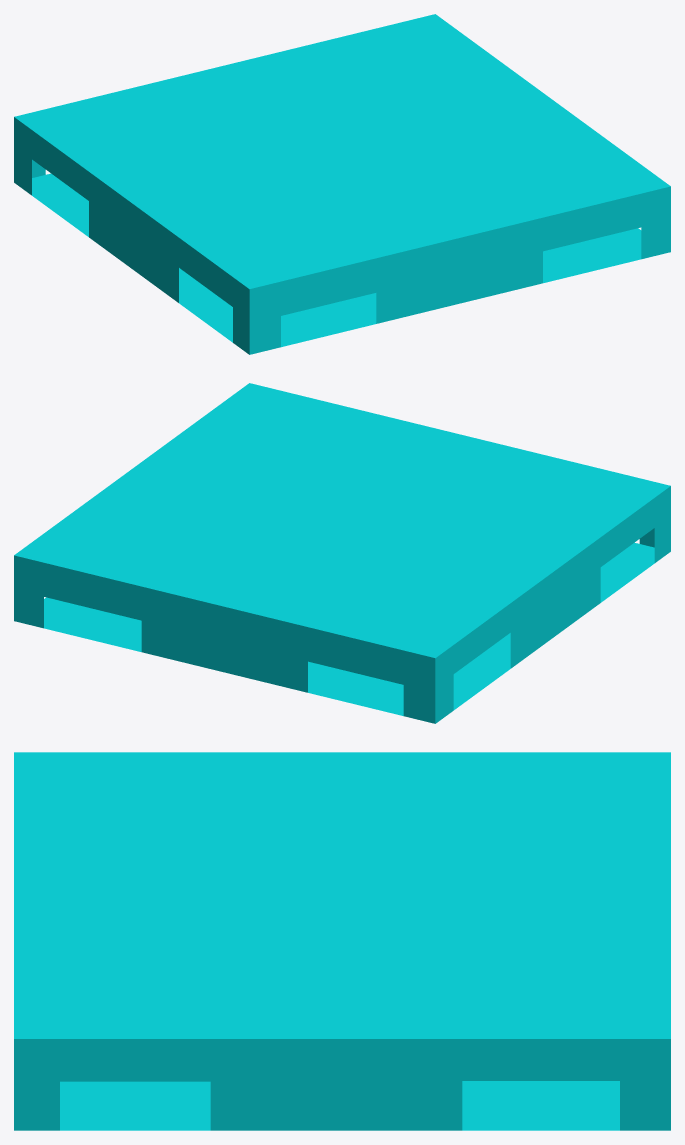
The model's file is pallet.glb.
3 renders of one model, top to bottom at view 1: azimuth 30°, elevation 25°; view 2: azimuth 150°, elevation 25°; view 3: azimuth 270°, elevation 25°, orthographic. The views are drawn at different scales.
Visible parts, largest first — view 1: Cube.001; view 2: Cube.001; view 3: Cube.001.
Part boxes in pixels (left/top/right/bottom): Cube.001: left=14, top=14, right=670, bottom=354; Cube.001: left=14, top=383, right=670, bottom=723; Cube.001: left=14, top=752, right=670, bottom=1130.
Size of the model in its own units: 10.29 by 1.53 by 9.96.
